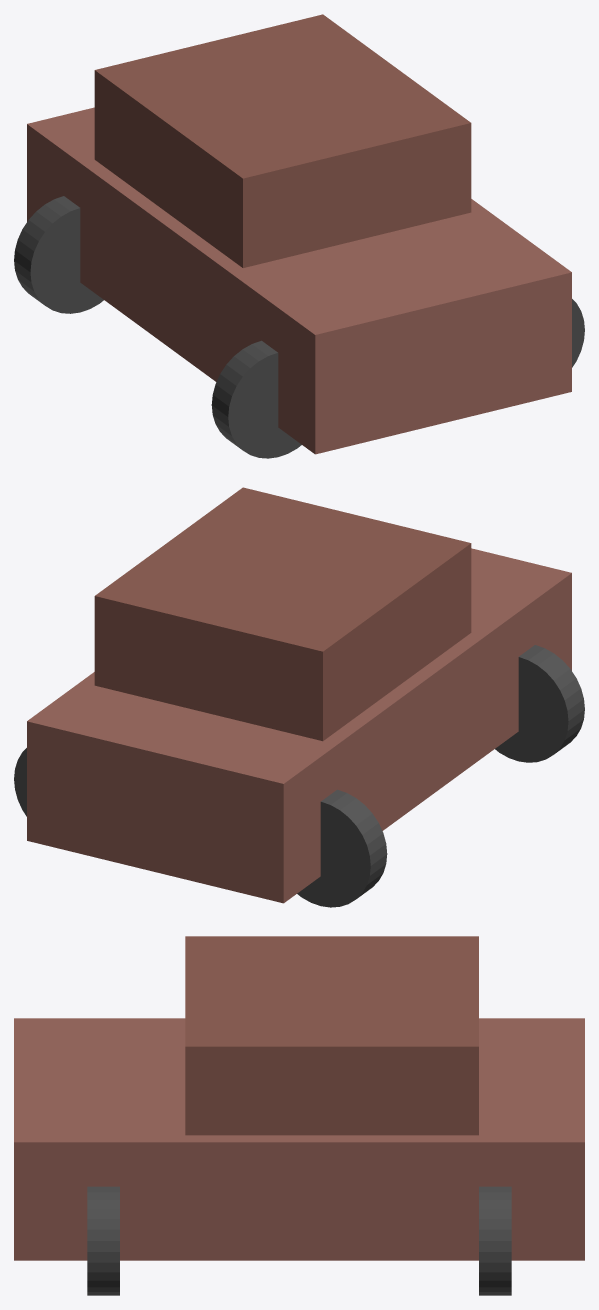
The model's file is abandoned_vehicle.glb.
The picture shows the model from 3 angles, top to bottom: view 1: azimuth 30°, elevation 25°; view 2: azimuth 150°, elevation 25°; view 3: azimuth 270°, elevation 25°; orthographic projection.
Parts seen in each view (by area): view 1: geometry_0; view 2: geometry_0; view 3: geometry_0.
Part boxes in pixels (x1=…): geometry_0: x1=14, y1=14, x2=584, y2=458; geometry_0: x1=14, y1=487, x2=584, y2=907; geometry_0: x1=14, y1=936, x2=584, y2=1295.
Size of the model in its own units: 2.5 by 1.6 by 3.5.
